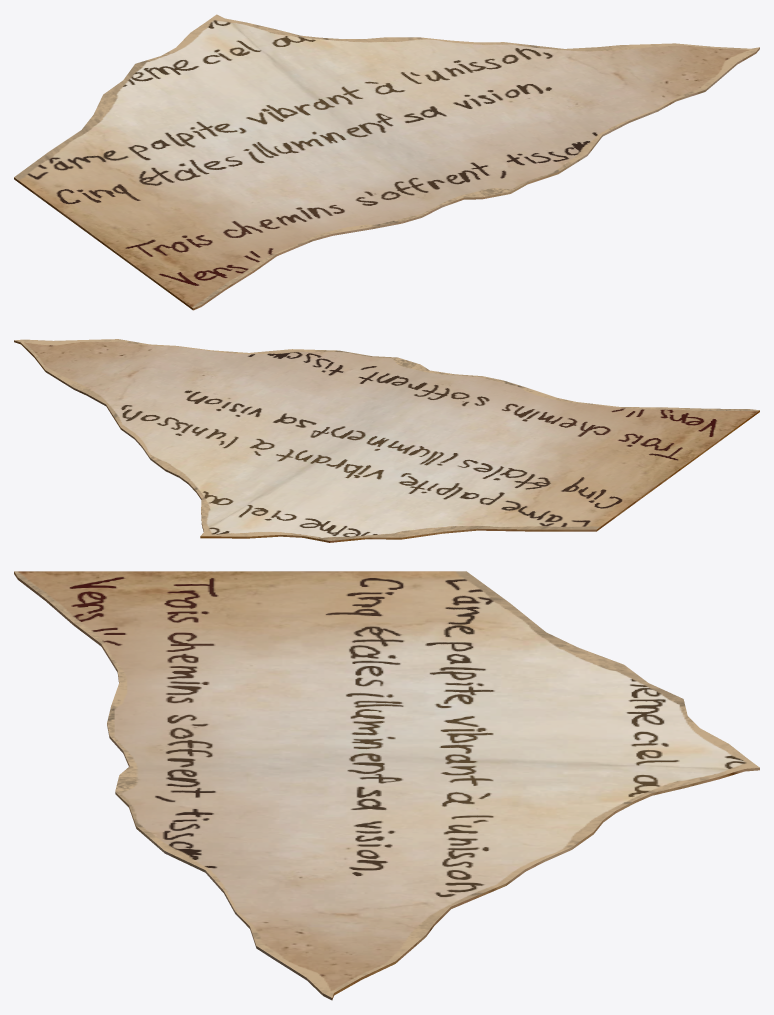
Rendered from Poeme4.fbx.
The picture shows the model from 3 angles, top to bottom: view 1: azimuth 30°, elevation 25°; view 2: azimuth 150°, elevation 25°; view 3: azimuth 270°, elevation 25°; orthographic projection. The views are drawn at different scales.
Parts seen in each view (by area): view 1: Poeme4; view 2: Poeme4; view 3: Poeme4.
Boxes of the visible parts, x1,y1,x2,y2 form: Poeme4: (14,14,759,310); Poeme4: (14,339,759,542); Poeme4: (14,571,759,1000).
Bounding box in the file's own units: 15.23 × 0.0429 × 11.25.
